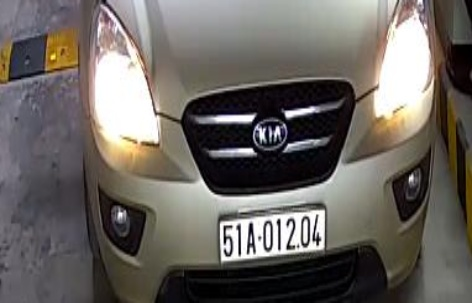plate: (213, 206, 333, 265)
